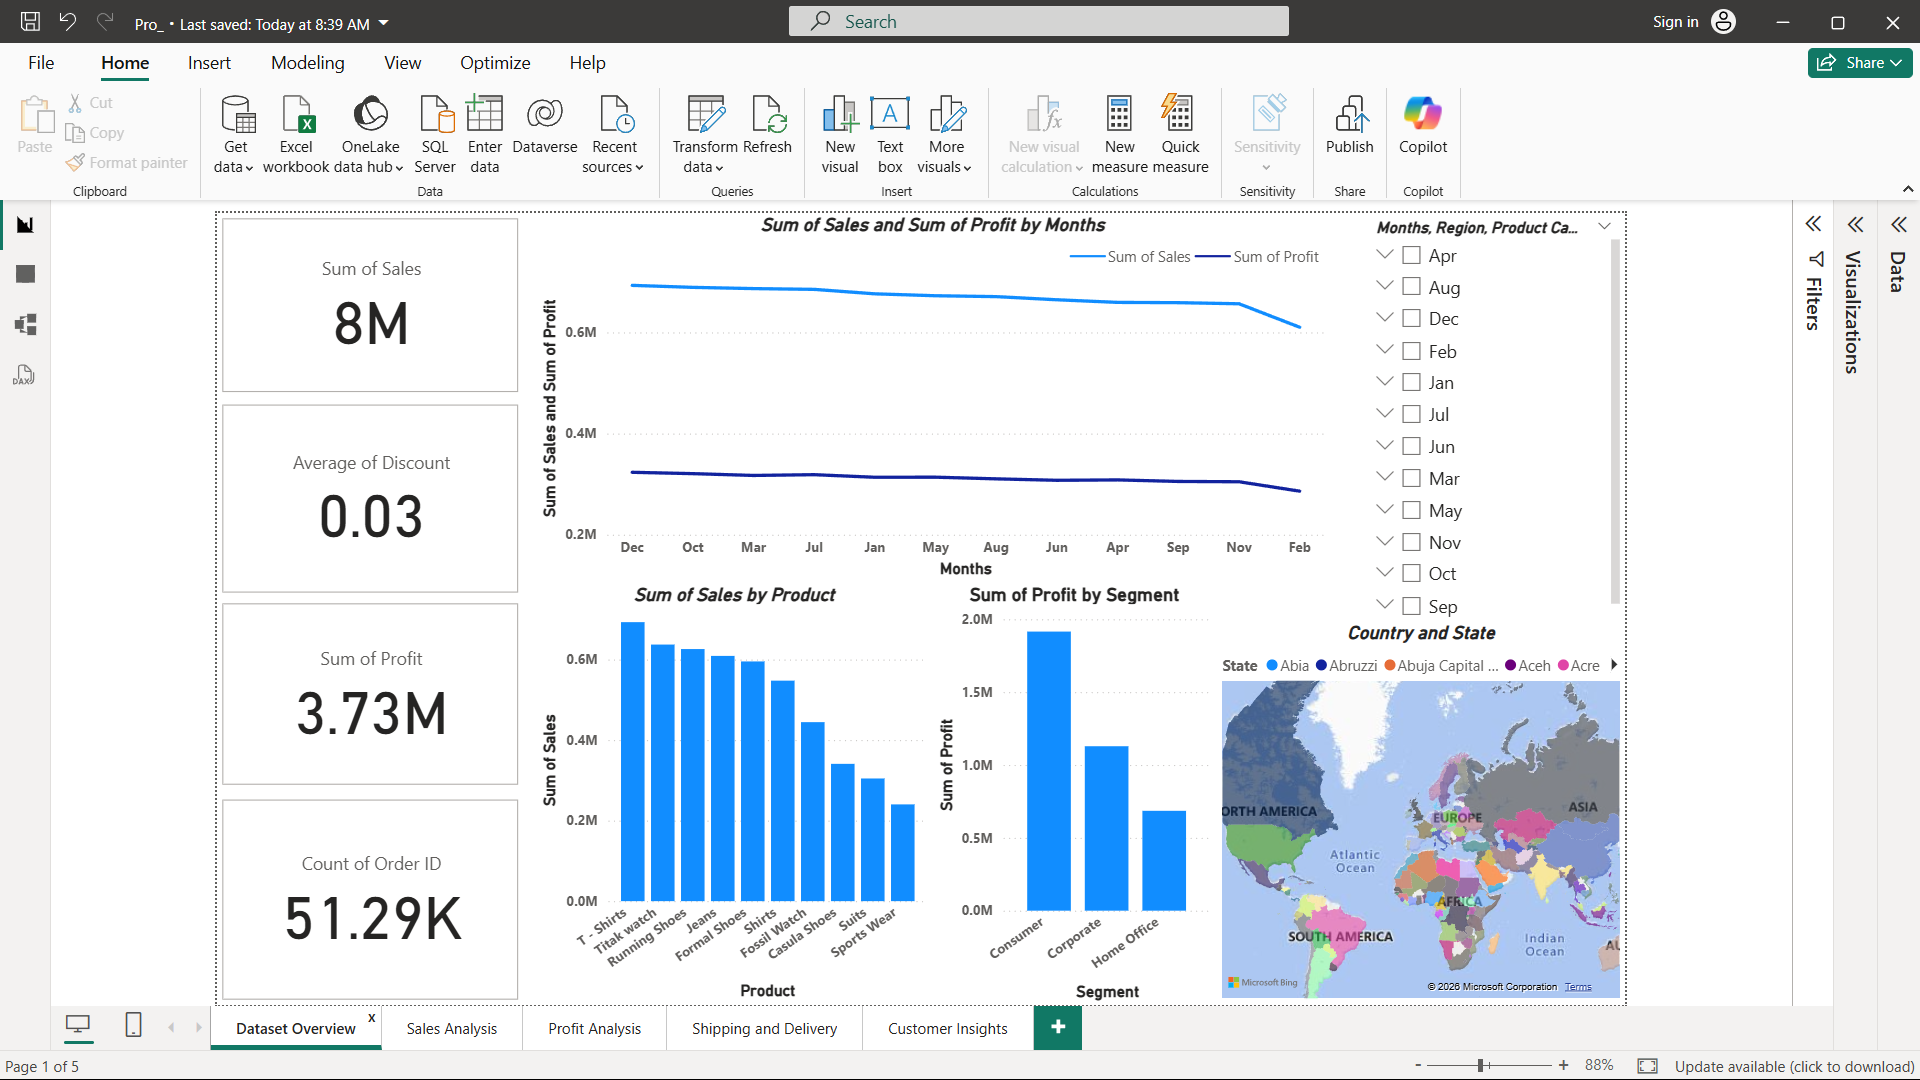

This screenshot's page, from the dashboard's own definition file:
{"tool":"powerbi","page":{"name":"Dataset Overview","canvas":[1280,720],"ordinal":0},"visuals":[{"type":"cardVisual","fields":{"Data":["Sum(Sheet1.Sales)"]},"box":[0,0,279.9,168.8],"z":0},{"type":"cardVisual","fields":{"Data":["Sum(Sheet1.Profit)"]},"box":[0,349.9,279.9,175.6],"z":1000},{"type":"cardVisual","fields":{"Data":["CountNonNull(Sheet1.Order ID)"]},"box":[0,528.3,279.9,192.1],"z":2000},{"type":"cardVisual","fields":{"Data":["Avg(Sheet1.Discount)"]},"box":[0,168.8,279.9,181.1],"z":3000},{"type":"lineChart","fields":{"Category":["Sheet1.Months"],"Y":["Sum(Sheet1.Sales)","Sum(Sheet1.Profit)"]},"box":[289.5,0,721.8,336.2],"z":4000},{"type":"clusteredColumnChart","fields":{"Category":["Sheet1.Product"],"Y":["Sum(Sheet1.Sales)"]},"box":[289.5,336.2,360.9,384.2],"z":5000},{"type":"columnChart","fields":{"Category":["Sheet1.Segment"],"Y":["Sum(Sheet1.Profit)"]},"box":[650,336,259.3,384.9],"z":6000},{"type":"slicer","fields":{"Values":["Sheet1.Months","Sheet1.Region","Sheet1.Product Category","Sheet1.Ship Mode"]},"box":[1040.7,0,239.5,372.1],"z":7000},{"type":"filledMap","fields":{"Series":["Sheet1.State"],"Category":["Sheet1.Country"]},"box":[909.3,372.1,370.9,347.7],"z":8000}]}

Visuals, with their boxes on the page's 1280x720 design canvas (x1, y1, x2, y2). These are canvas units, not pixel positions in the 1920x1080 screenshot, which may show the page scaled, cropped or inside an application window:
cardVisual - Sum(Sheet1.Sales): 0/0/280/169
cardVisual - Sum(Sheet1.Profit): 0/350/280/526
cardVisual - CountNonNull(Sheet1.Order ID): 0/528/280/720
cardVisual - Avg(Sheet1.Discount): 0/169/280/350
lineChart - Sheet1.Months x Sum(Sheet1.Sales): 290/0/1011/336
clusteredColumnChart - Sheet1.Product x Sum(Sheet1.Sales): 290/336/650/720
columnChart - Sheet1.Segment x Sum(Sheet1.Profit): 650/336/909/721
slicer - Sheet1.Months x Sheet1.Region: 1041/0/1280/372
filledMap - Sheet1.State x Sheet1.Country: 909/372/1280/720
